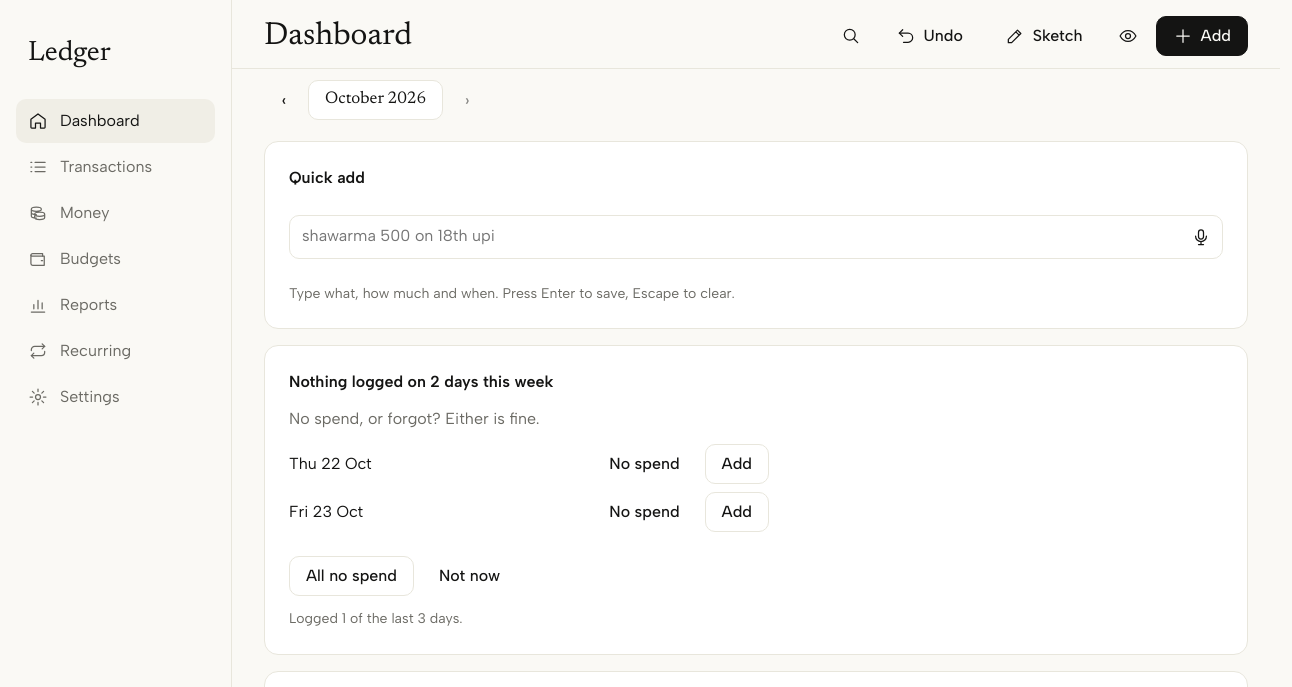
Scenario: missed-day check-in › asks about days with nothing logged, marks no spend, and can wait until tomorrow
Expected: the heading "Dashboard" is shown, [264, 20, 412, 52]
Expected: the heading "Nothing logged on 2 days this week" is shown, [289, 372, 553, 392]
Step 1. Click the button "No spend" in the row of "Fri 23 Oct" → (644, 512), box [592, 492, 697, 532]
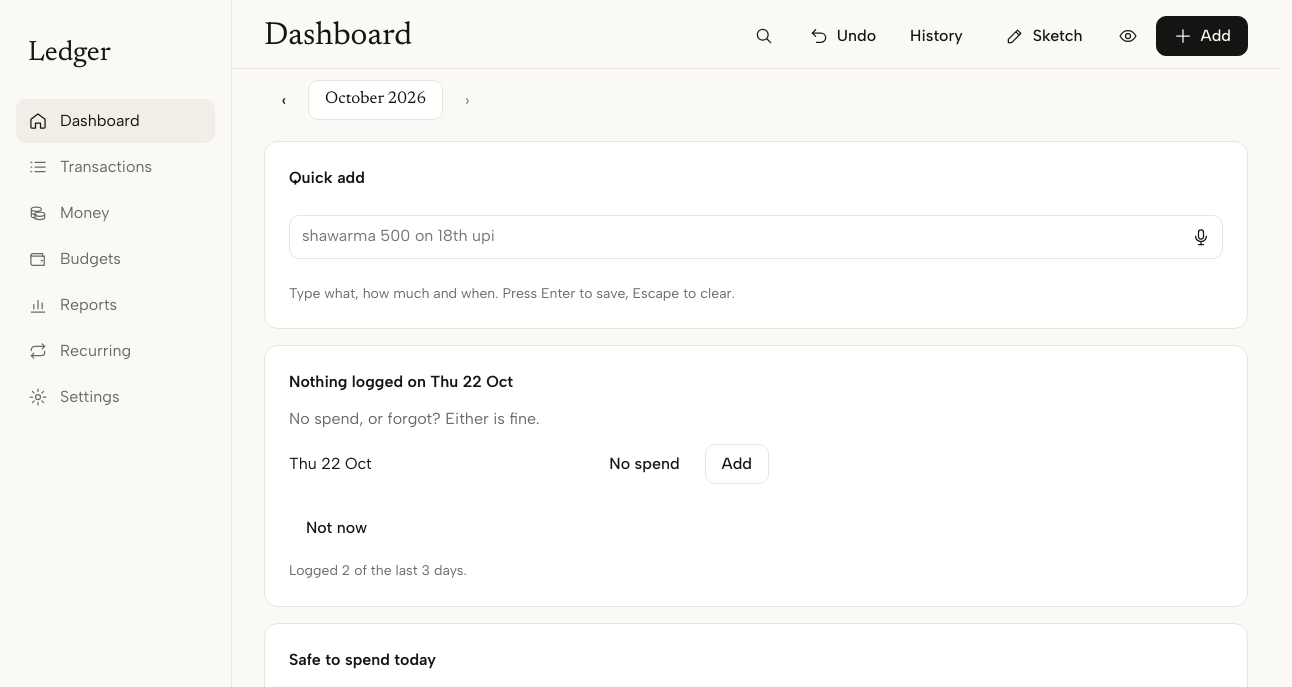
Step 2. Click the button "Not now" → (336, 528), box [289, 508, 384, 548]
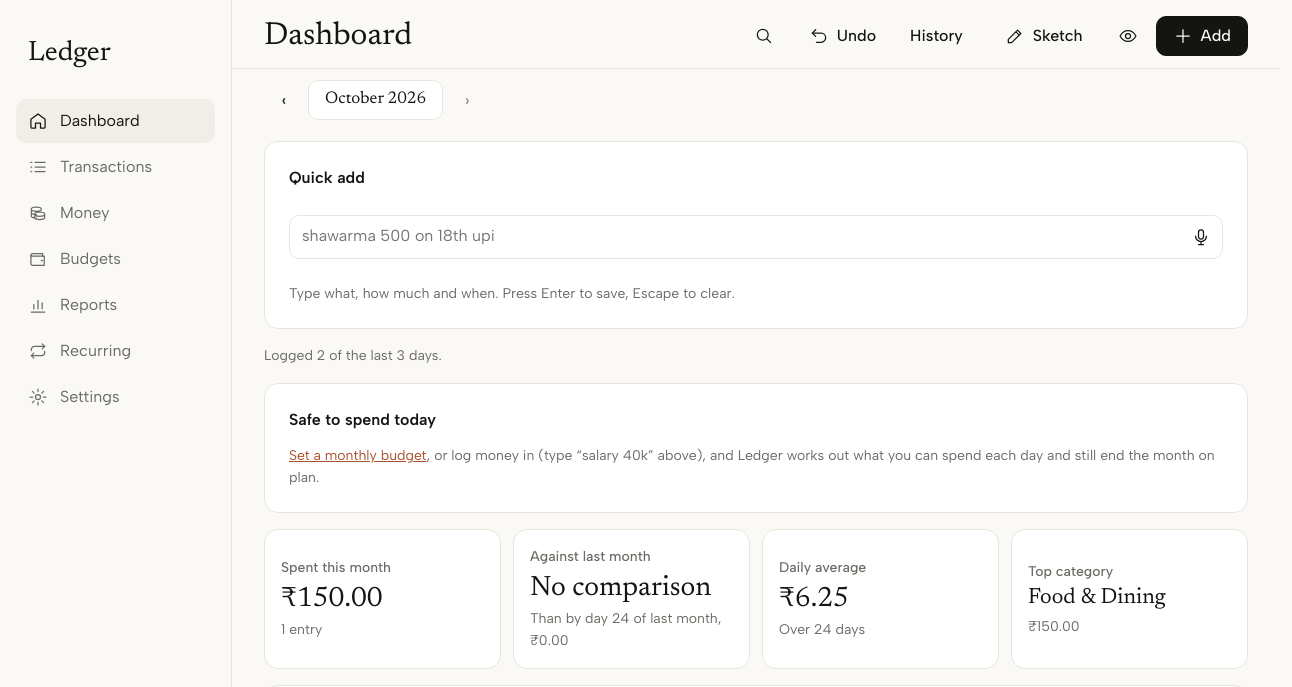
Expected: the text with test id "habit-line" reads "Logged 2 of the last 3 days.", [264, 348, 442, 364]
Expected: the element with test id "checkin" is gone
